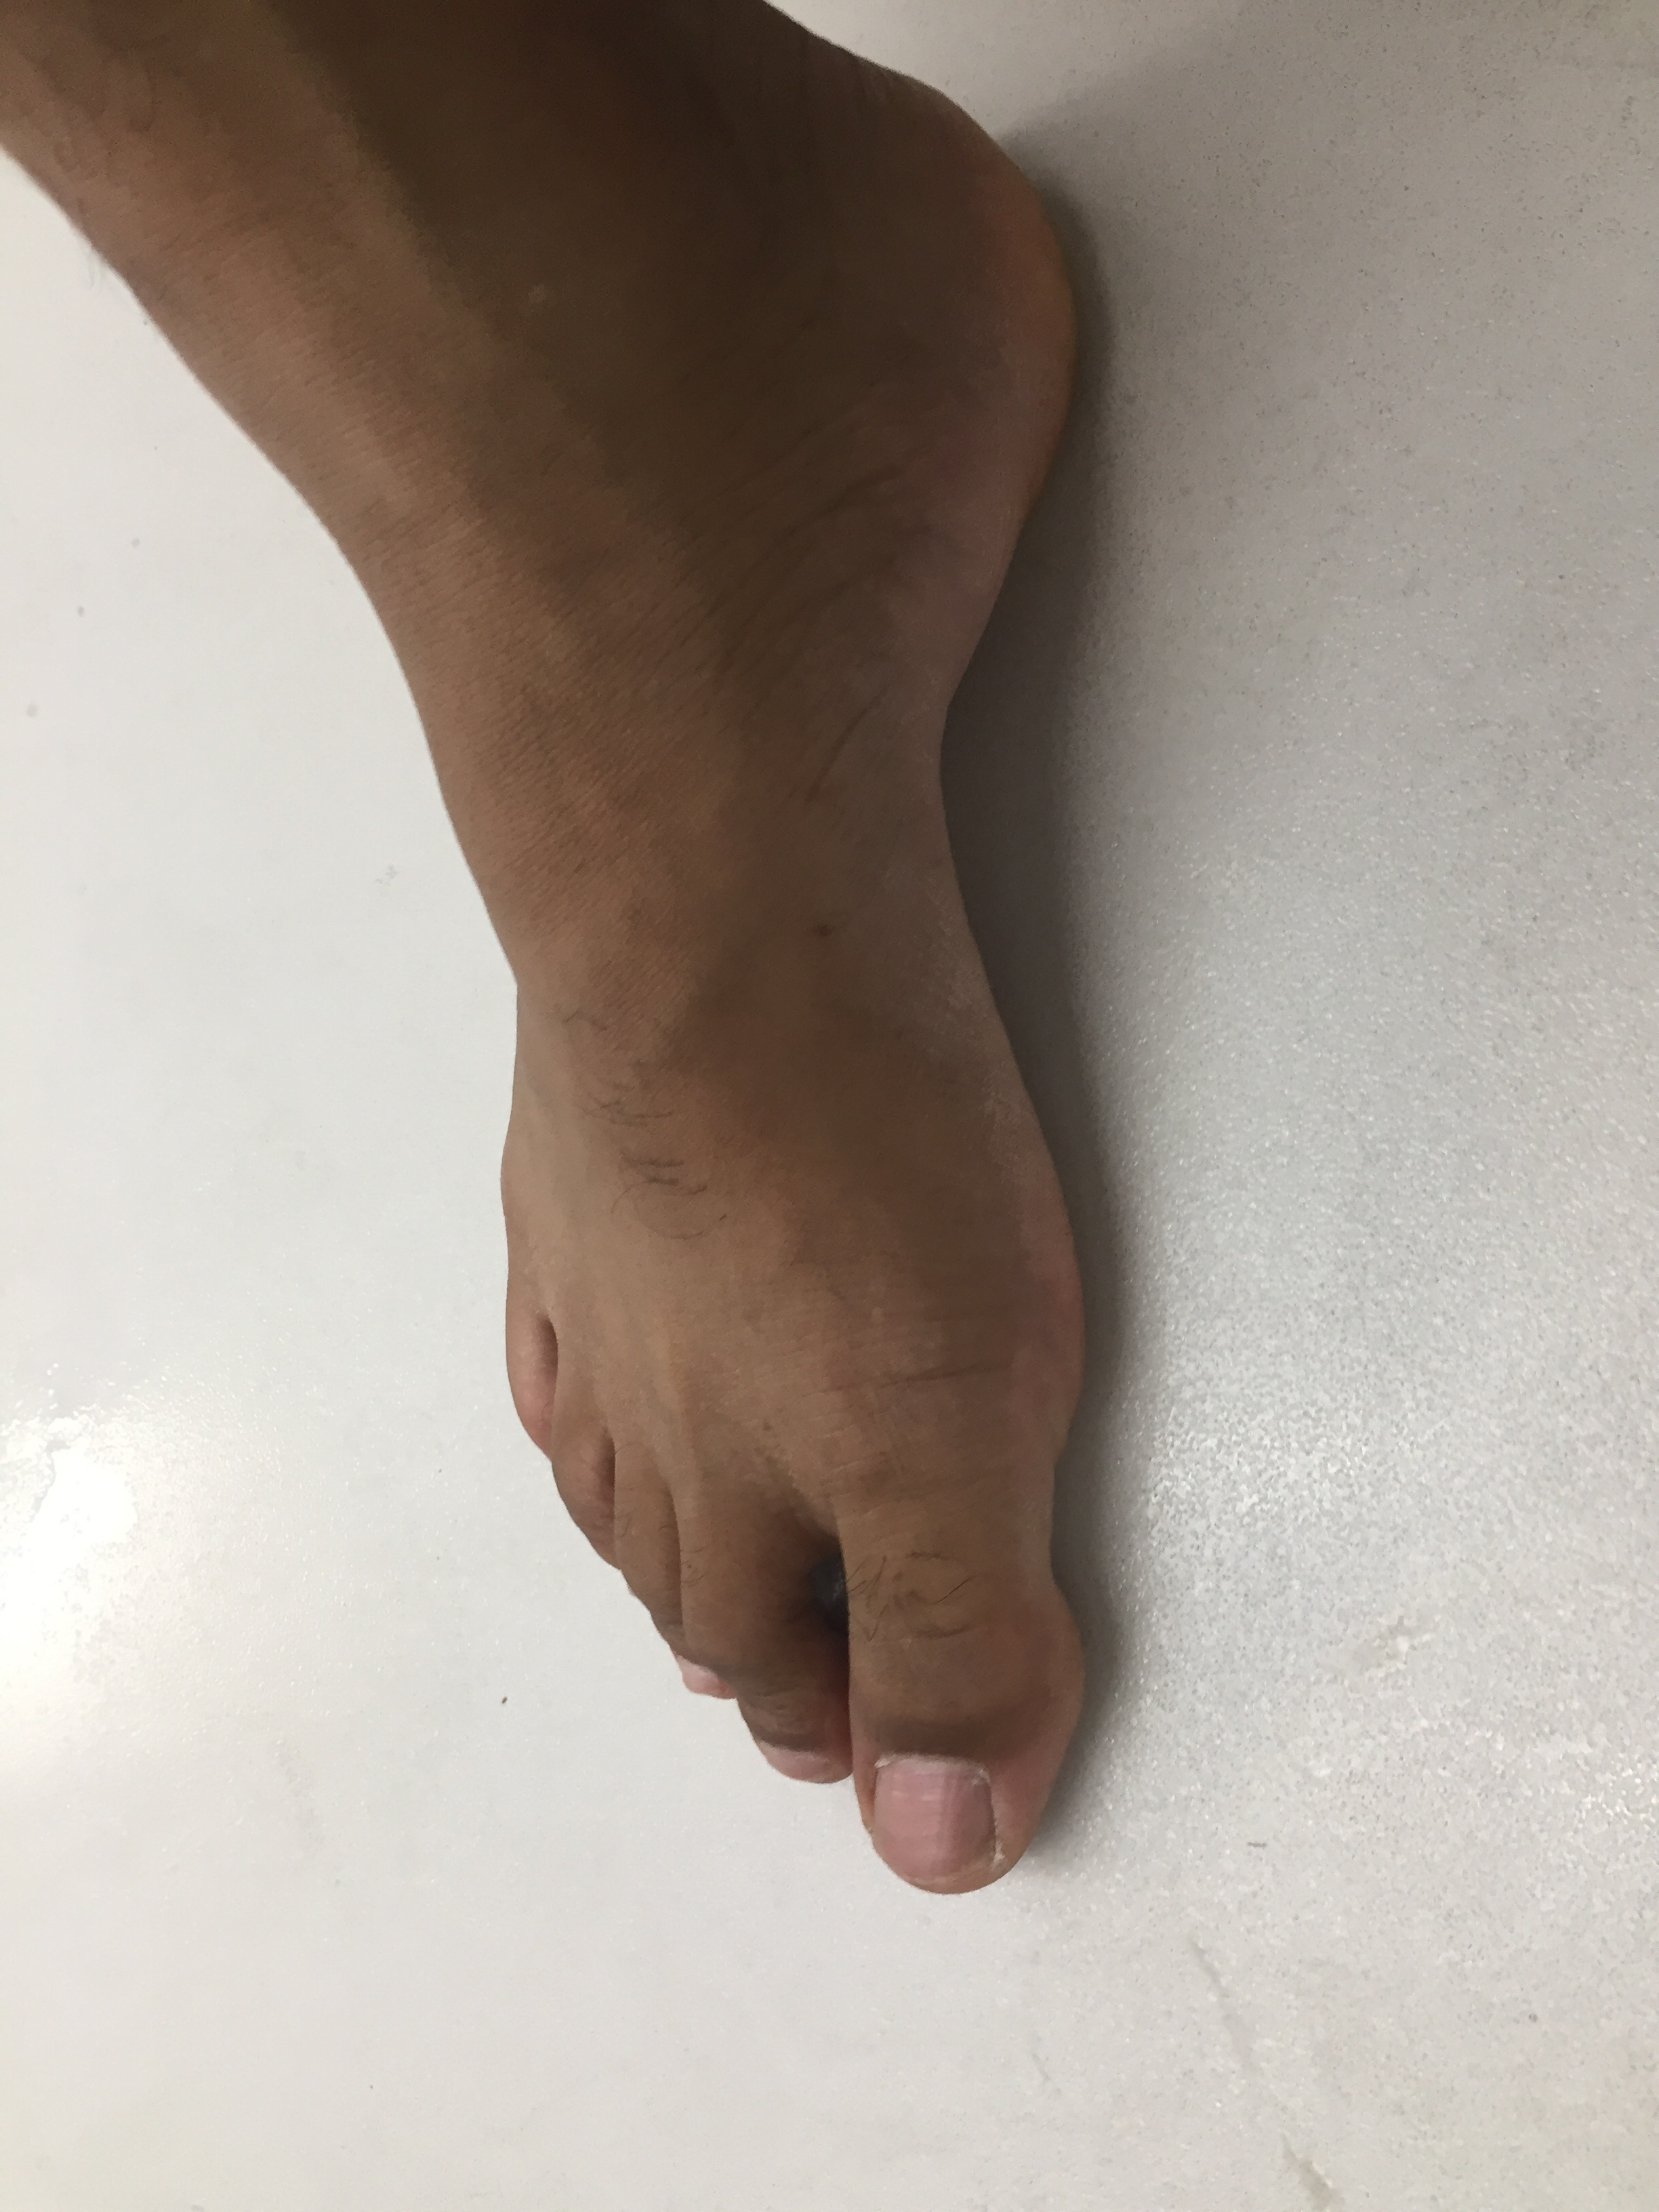feet: (68, 19, 1134, 1947)
